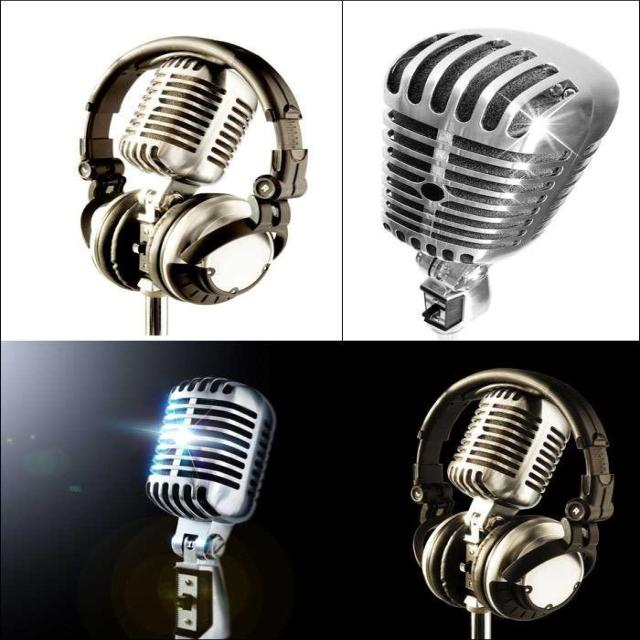microphone: (1, 2, 337, 340), (385, 31, 615, 322), (144, 380, 272, 639), (118, 56, 258, 186), (453, 382, 571, 520)
